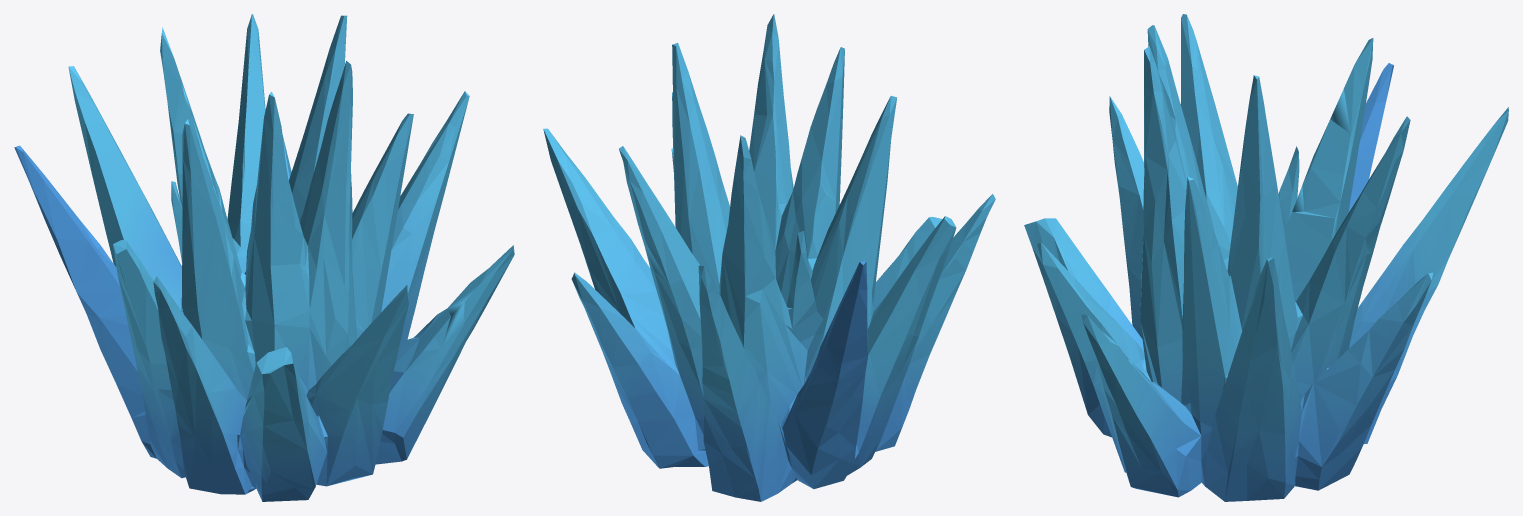
File: spikes.fbx
3 renders of one model, left to right at view 1: azimuth 30°, elevation 25°; view 2: azimuth 150°, elevation 25°; view 3: azimuth 270°, elevation 25°, orthographic. The views are drawn at different scales.
Visible parts, largest first — view 1: Mesh_0; view 2: Mesh_0; view 3: Mesh_0.
Part boxes in pixels (left/top/right/bottom): Mesh_0: left=14, top=14, right=514, bottom=501; Mesh_0: left=543, top=14, right=995, bottom=501; Mesh_0: left=1024, top=14, right=1508, bottom=501.
Size of the model in its own units: 1.01 by 1 by 1.05.
Materials: 1 (1 with a texture image).
